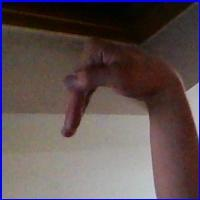del: (49, 34, 178, 151)
